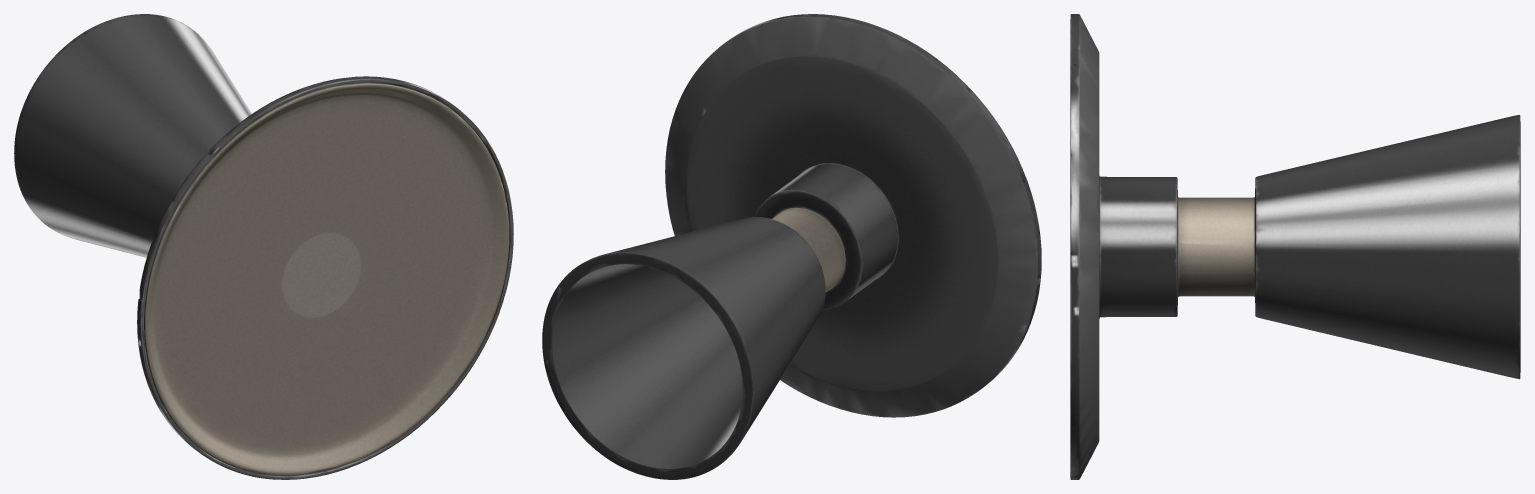
3 renders of one model, left to right at view 1: azimuth 30°, elevation 25°; view 2: azimuth 150°, elevation 25°; view 3: azimuth 270°, elevation 25°, orthographic. The views are drawn at different scales.
Size of the model in its own units: 0.65 by 0.65 by 0.628.
